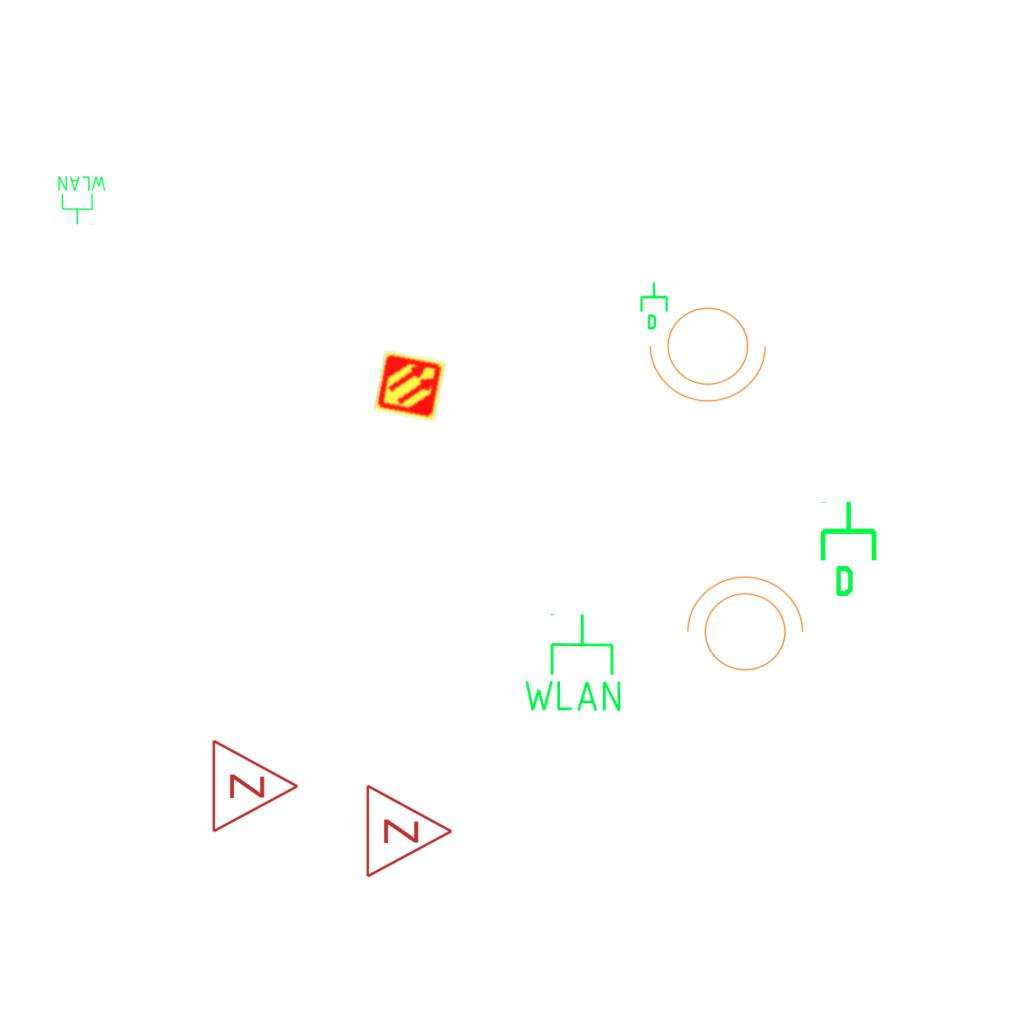ASR_Ansaugrauchmelder: (373, 349, 447, 423)
Datenanschluss_einfach: (816, 499, 885, 599), (638, 281, 672, 331)
Scheinwerfer_fuer_Alarmbeleuchtung: (676, 571, 808, 683), (645, 295, 777, 407)
WLAN: (520, 611, 625, 715), (56, 174, 108, 226)
Zimmersignalleuchte: (205, 736, 305, 834), (359, 781, 459, 879)
